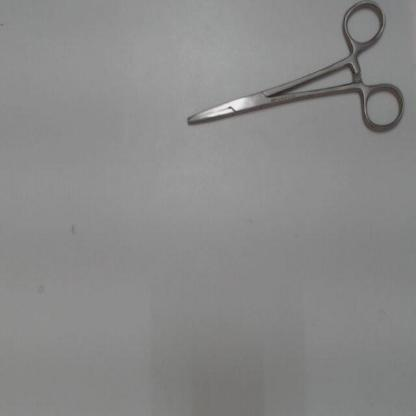Mayo Needle Holder: (177, 0, 409, 143)
